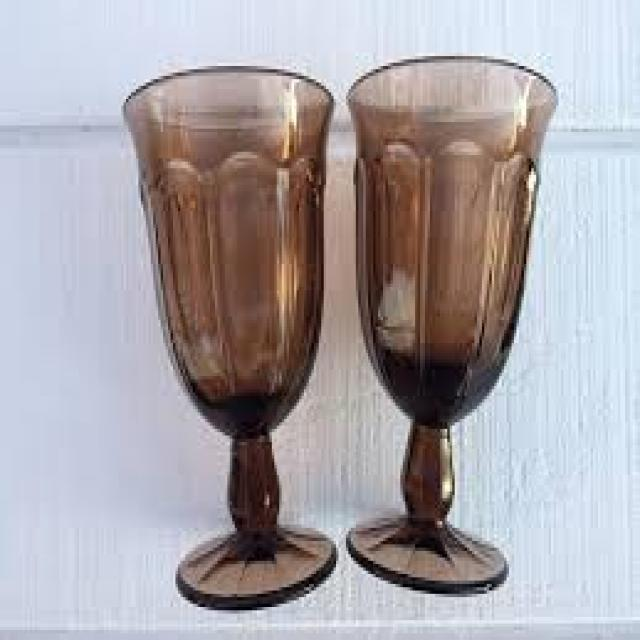Glass: (124, 67, 338, 610), (346, 56, 559, 598)
